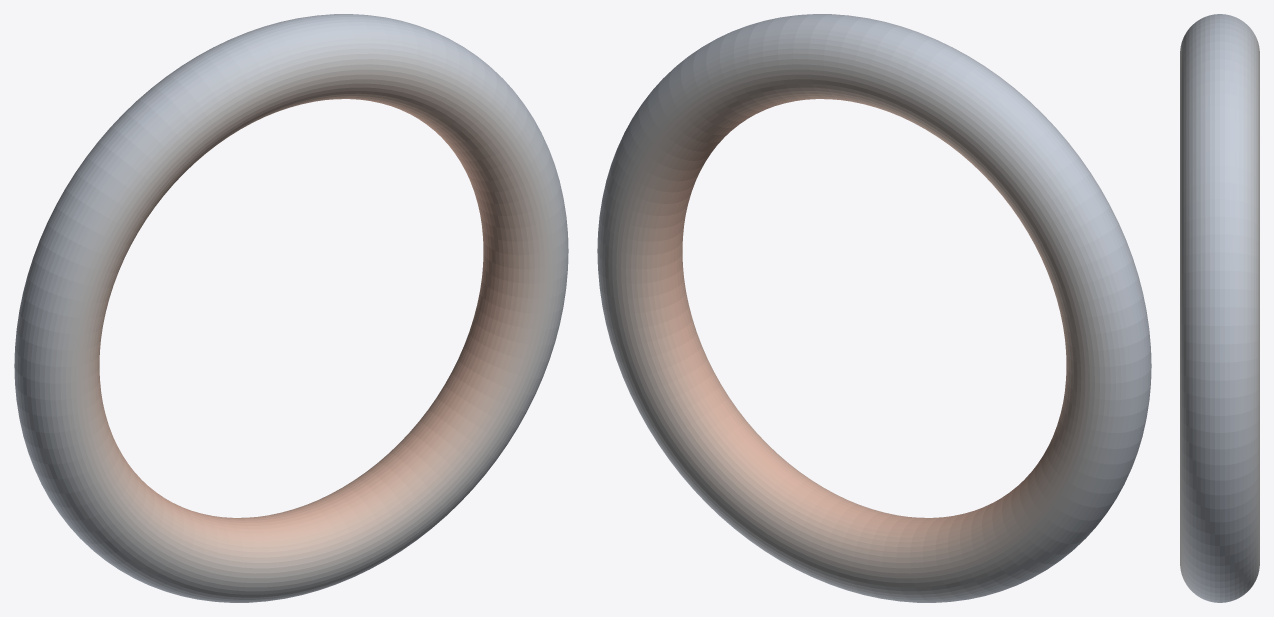
3 views of the same model, side by side, from view 1: azimuth 30°, elevation 25°; view 2: azimuth 150°, elevation 25°; view 3: azimuth 270°, elevation 25° (orthographic). The views are drawn at different scales.
Parts seen in each view (by area): view 1: world; view 2: world; view 3: world.
Part boxes in pixels (box(x1,y1,x2,y2)): world: box(14, 14, 568, 602); world: box(597, 14, 1151, 602); world: box(1180, 14, 1259, 602).
Size of the model in its own units: 32.4 by 32.4 by 4.39.
